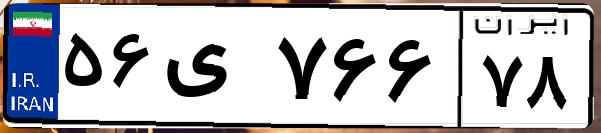5: (57, 26, 110, 100)
6: (385, 28, 445, 110), (330, 28, 385, 110), (110, 28, 158, 98)
7: (270, 28, 330, 110), (475, 38, 525, 113)
8: (525, 38, 570, 115)
ی: (158, 20, 270, 120)
